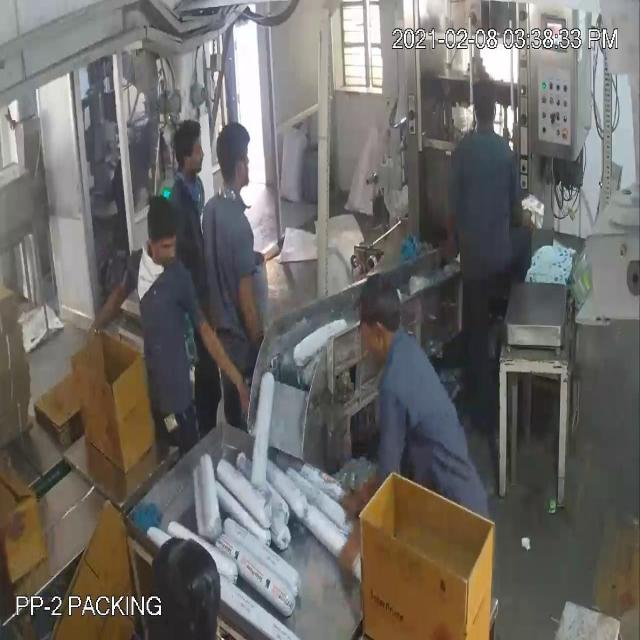No_Gloves: (50, 90, 358, 533)
